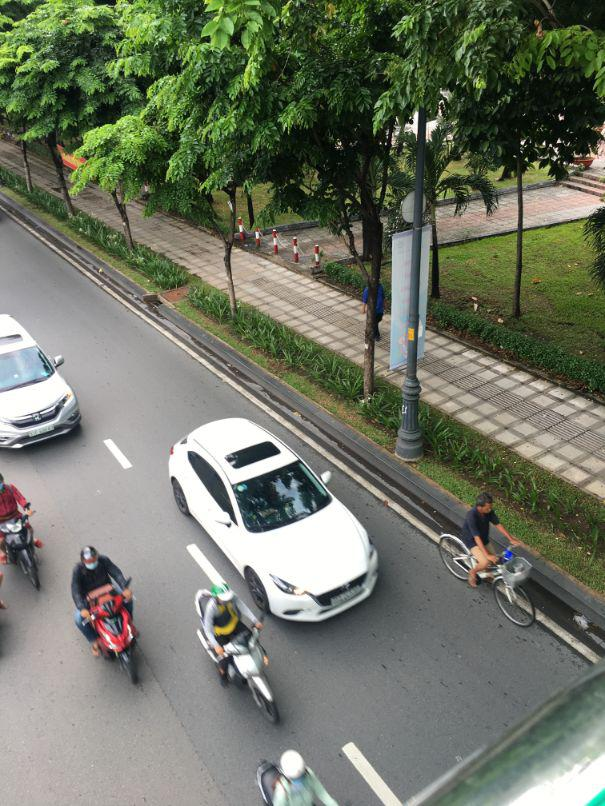car: (167, 416, 377, 626), (1, 310, 85, 456)
motorbike: (195, 586, 279, 723), (79, 598, 144, 682), (1, 510, 44, 592)
